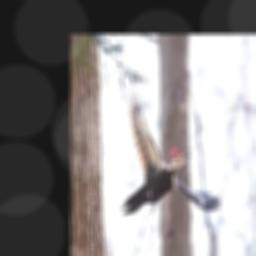Woodpecker: (122, 83, 221, 214)
